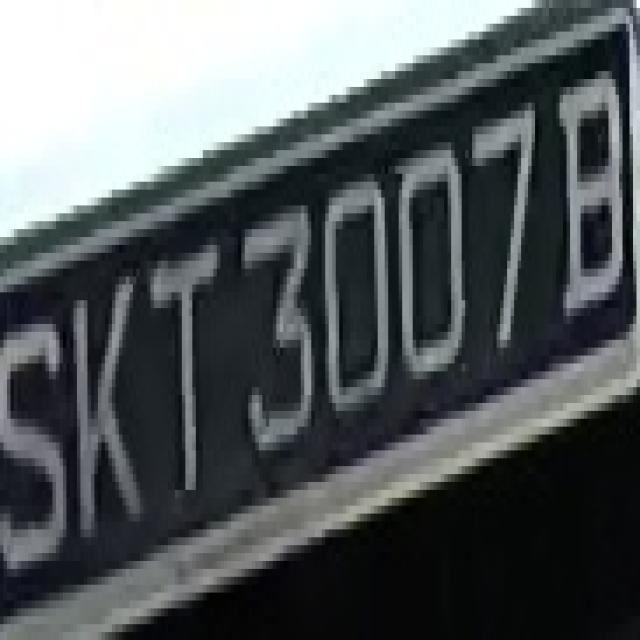0: (388, 119, 483, 418), (315, 166, 402, 434)
3: (234, 190, 315, 466)
7: (458, 87, 539, 371)
B: (549, 63, 633, 316)
K: (66, 237, 150, 569)
S: (11, 292, 66, 600)
T: (129, 222, 224, 530)
